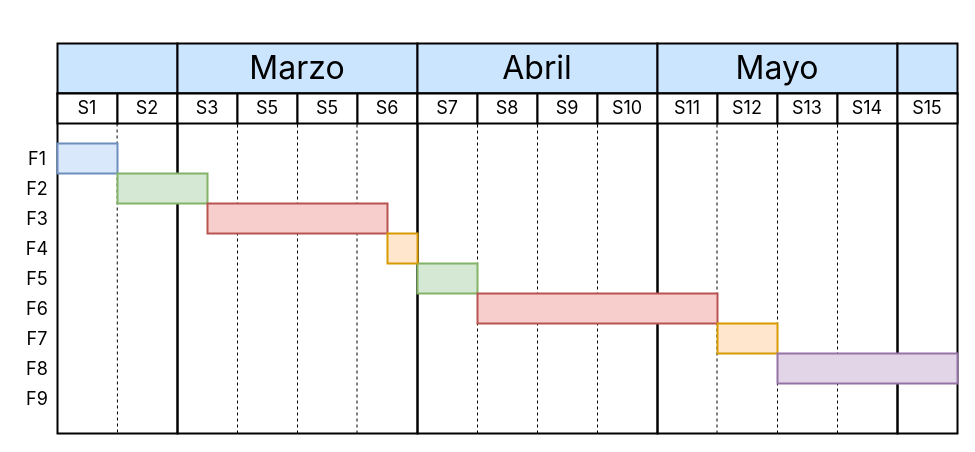
The diagram is 975 pixels wide and 452 high, and some of its shapes have lost their labels. The centre of each missing label's shape, as x and y in pixels:
"Feb." goes at pixel 117 68.
"Ju." goes at pixel 927 68.
